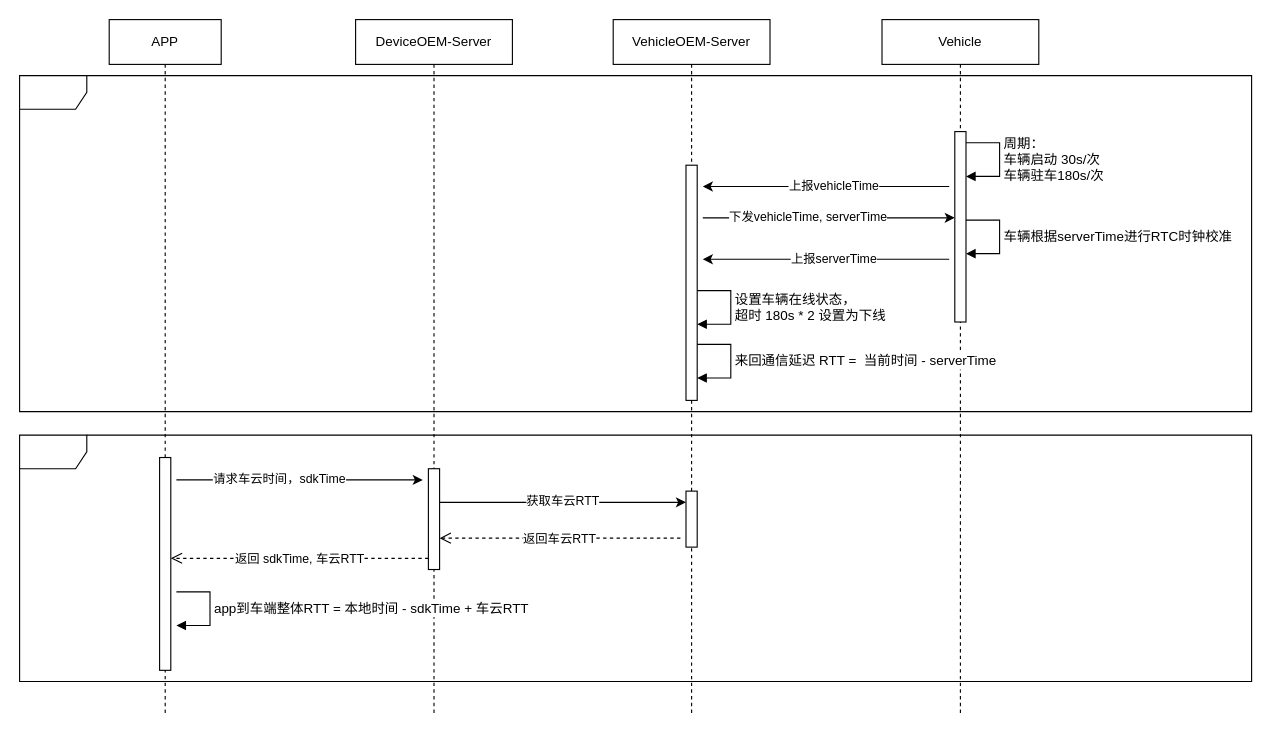
Some shapes in this 1271 by 734 pixel diagram are drawn without their labels. The shapes that lost their labels are listed below. From the top down, each one's centre as x and y in pixels, then its label:
the point at 635,243: 心跳
the point at 635,558: 获取车辆信号强度
